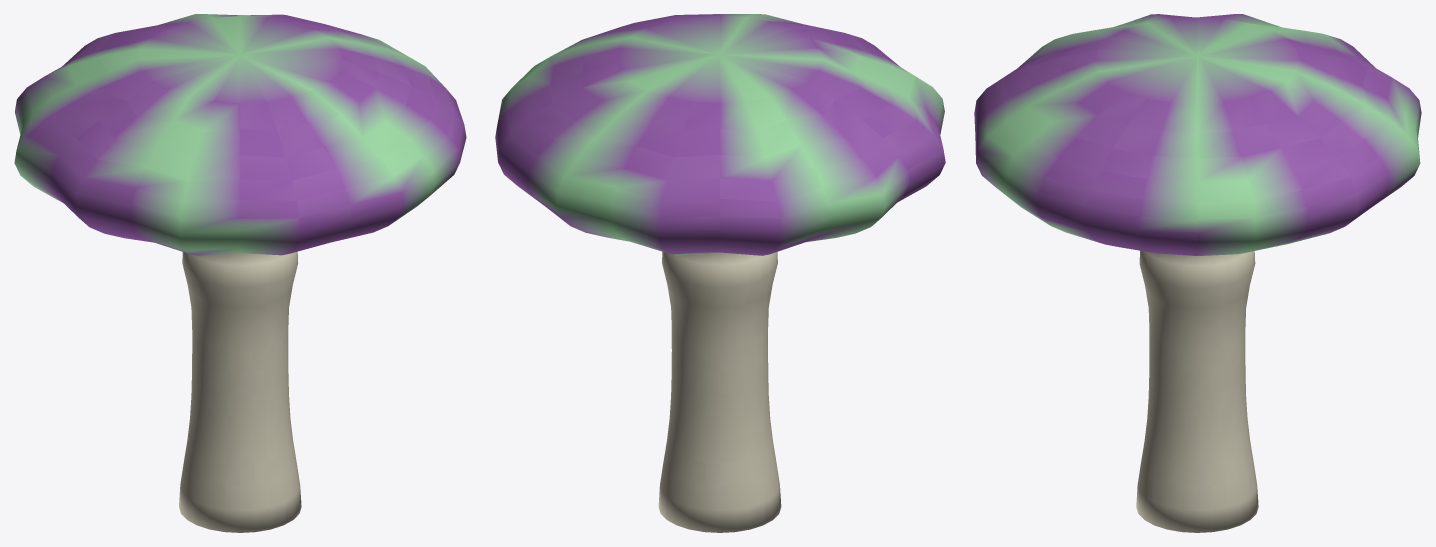
File: Glow_Cap.glb
3 renders of one model, left to right at view 1: azimuth 30°, elevation 25°; view 2: azimuth 150°, elevation 25°; view 3: azimuth 270°, elevation 25°, orthographic.
Parts seen in each view (by area): view 1: GlowCapItem; view 2: GlowCapItem; view 3: GlowCapItem.
Part boxes in pixels (bbox=[...]): GlowCapItem: bbox=[14, 14, 466, 532]; GlowCapItem: bbox=[495, 14, 945, 532]; GlowCapItem: bbox=[974, 14, 1421, 532].
Size of the model in its own units: 0.9326 by 1.04 by 0.9241.
